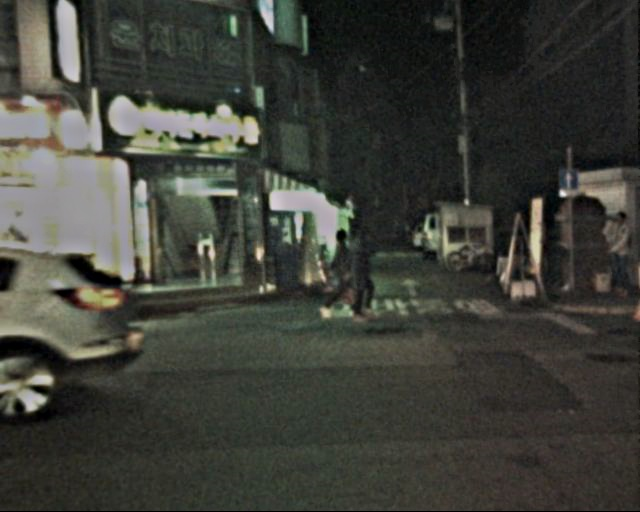person: (313, 228, 360, 324), (337, 228, 383, 322), (594, 209, 639, 305)
